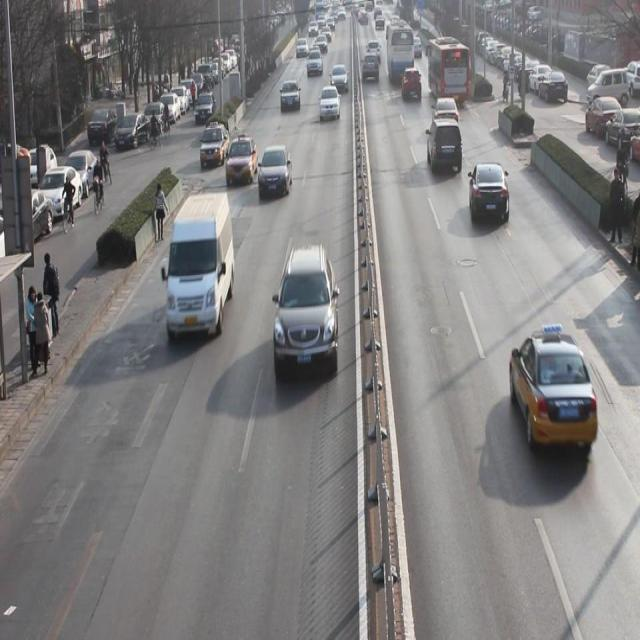car: (507, 327, 599, 455), (274, 244, 339, 381), (469, 162, 510, 225), (426, 117, 464, 176), (257, 147, 293, 201), (224, 137, 256, 184), (199, 124, 231, 165), (433, 96, 460, 135), (280, 78, 302, 113), (401, 66, 422, 102), (319, 87, 340, 122), (361, 54, 381, 83), (330, 65, 349, 94), (306, 49, 323, 77)
truck: (164, 195, 237, 342)
van: (428, 38, 470, 108)
